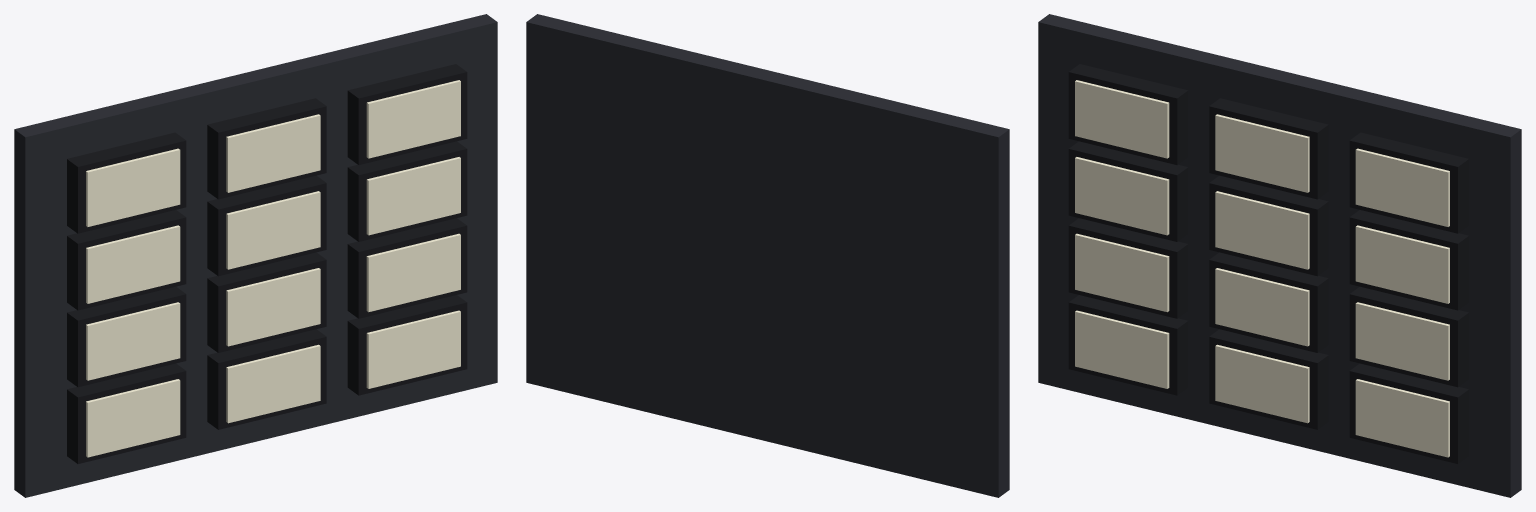
The model's file is LamparasEncendidas.obj.
3 views of the same model, side by side, from view 1: azimuth 30°, elevation 25°; view 2: azimuth 150°, elevation 25°; view 3: azimuth 330°, elevation 25° (orthographic).
Visible parts, largest first — view 1: LamparasEncendidas; view 2: LamparasEncendidas; view 3: LamparasEncendidas.
Boxes of the visible parts, <box> form: LamparasEncendidas: <box>14,14,497,497</box>; LamparasEncendidas: <box>526,14,1009,497</box>; LamparasEncendidas: <box>1038,14,1521,497</box>.
Size of the model in its own units: 7.4 by 5.4 by 0.65.
Materials: 1 (1 with a texture image).
